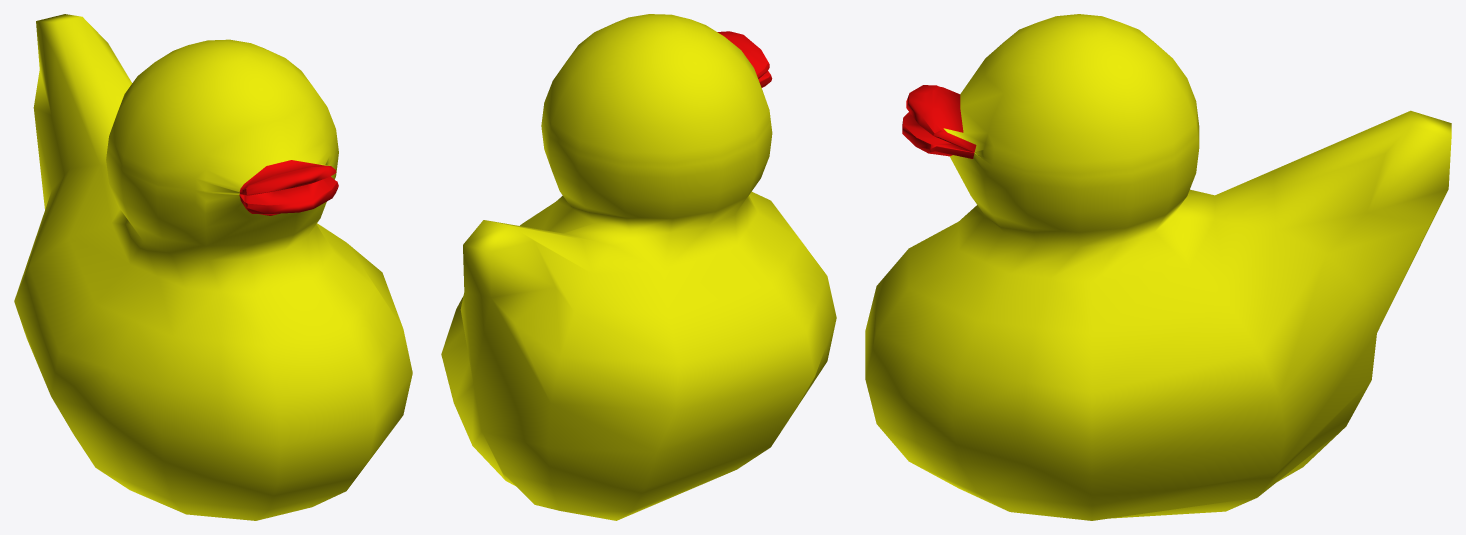
The model's file is PatitoGoma.fbx.
The picture shows the model from 3 angles, left to right: view 1: azimuth 30°, elevation 25°; view 2: azimuth 150°, elevation 25°; view 3: azimuth 270°, elevation 25°; orthographic projection. The views are drawn at different scales.
Visible parts, largest first — view 1: polySurface3; view 2: polySurface3; view 3: polySurface3.
Boxes of the visible parts, box(x1,y1,x2,y2) form: polySurface3: box(14, 14, 412, 520); polySurface3: box(441, 14, 836, 520); polySurface3: box(865, 14, 1451, 520).
Size of the model in its own units: 24.64 by 31.17 by 34.9.
